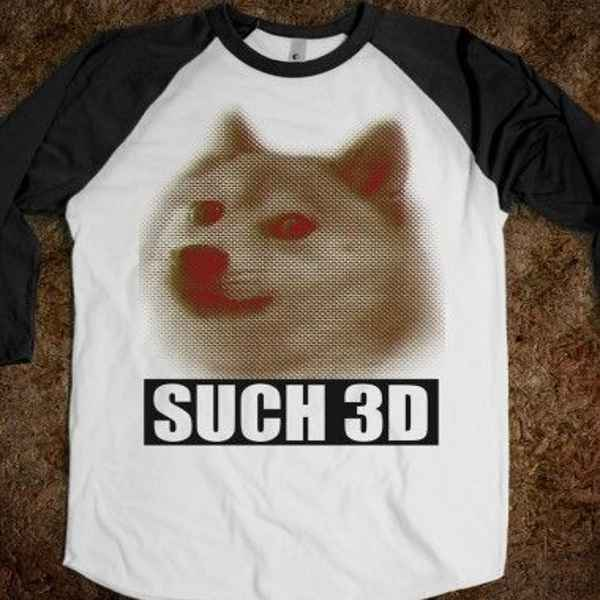doge: (151, 126, 434, 371)
